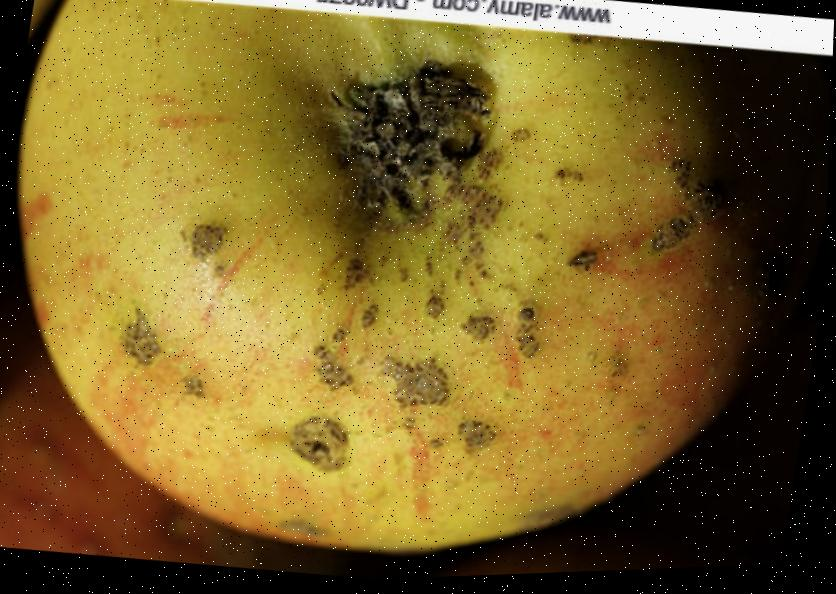SCAB: (0, 0, 819, 583)
